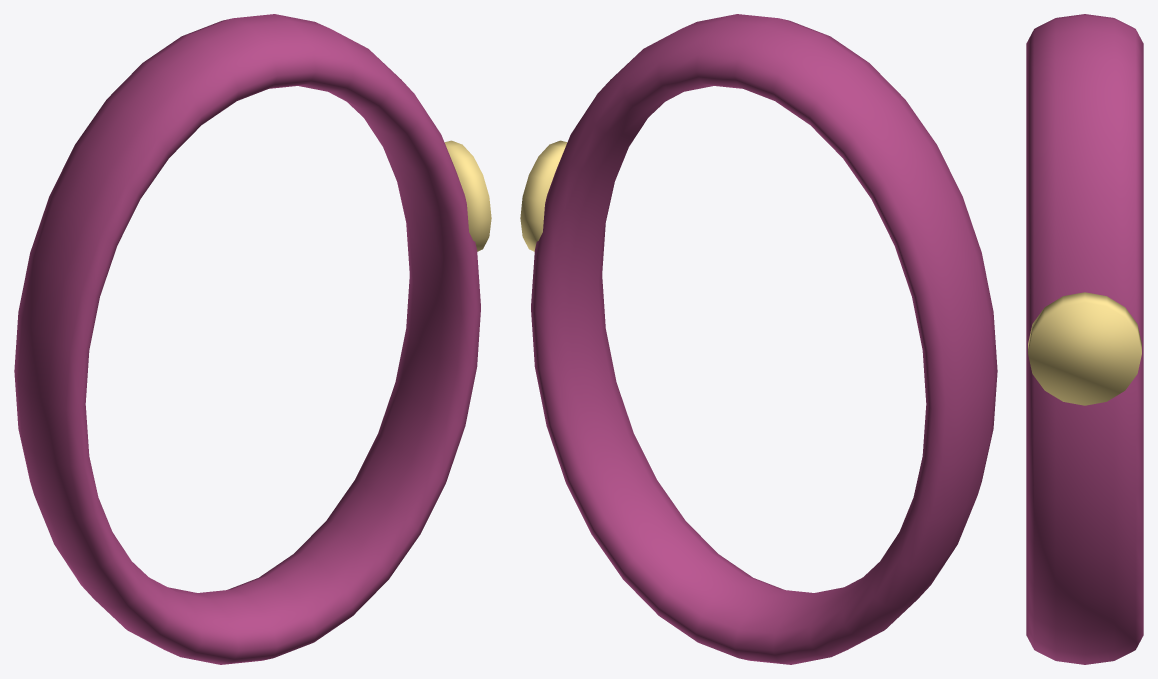
Rendered from pony_sash.glb.
3 renders of one model, left to right at view 1: azimuth 30°, elevation 25°; view 2: azimuth 150°, elevation 25°; view 3: azimuth 270°, elevation 25°, orthographic.
Parts seen in each view (by area): view 1: pony_sash; view 2: pony_sash; view 3: pony_sash.
Part boxes in pixels (x1,y1,x2,y2): pony_sash: (14, 14, 491, 664); pony_sash: (520, 14, 997, 664); pony_sash: (1026, 14, 1143, 664).
Bounding box in the file's own units: 0.6072 × 0.8382 × 0.144.
